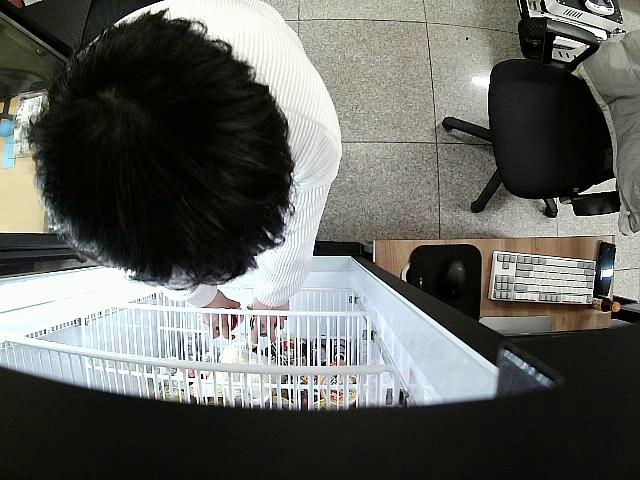00_hand: (199, 288, 240, 339), (248, 297, 290, 344)
